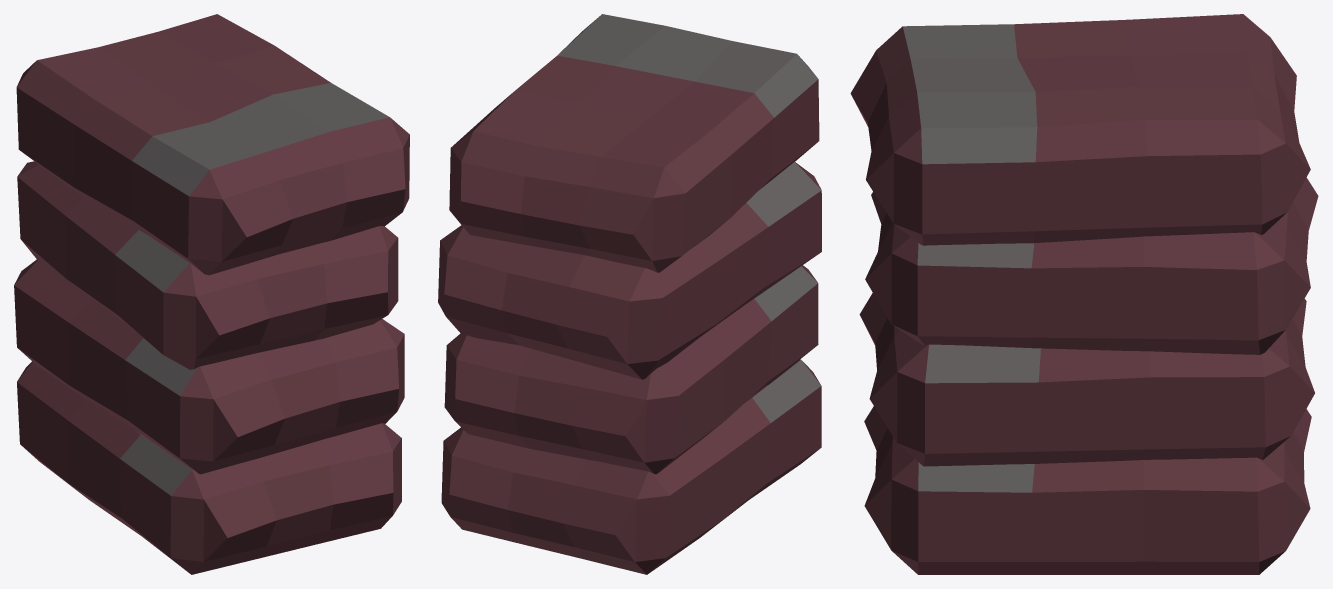
File: cement-bag-pile.fbx
3 views of the same model, side by side, from view 1: azimuth 30°, elevation 25°; view 2: azimuth 150°, elevation 25°; view 3: azimuth 270°, elevation 25° (orthographic). The views are drawn at different scales.
Visible parts, largest first — view 1: cement-bag-pile; view 2: cement-bag-pile; view 3: cement-bag-pile.
Boxes of the visible parts, box(x1,y1,x2,y2) form: cement-bag-pile: box(14, 14, 409, 574); cement-bag-pile: box(438, 14, 821, 574); cement-bag-pile: box(850, 14, 1318, 574).
Bounding box in the file's own units: 0.4853 × 0.7636 × 0.7112.
